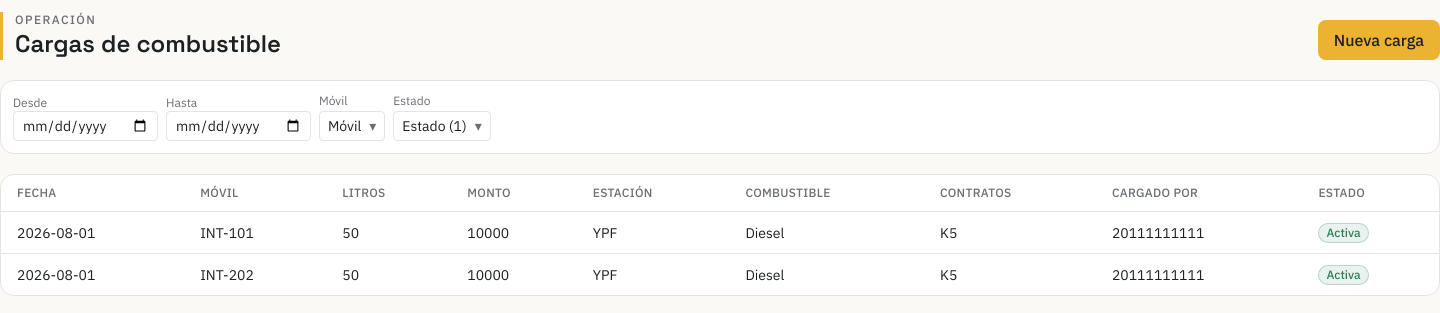
Test case: CombustiblePage › tildar un móvil hace aparecer "Limpiar filtros", que vuelve al estado inicial
Click the button labelled "Móvil ▾": (352,126) [319,111,385,141]
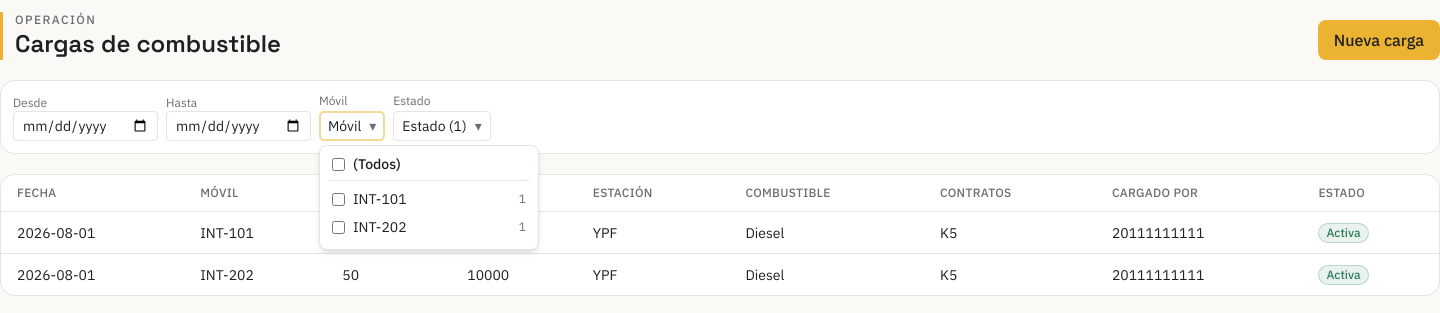
Click the checkbox labelled "INT-101": (338,199) [332,192,345,206]
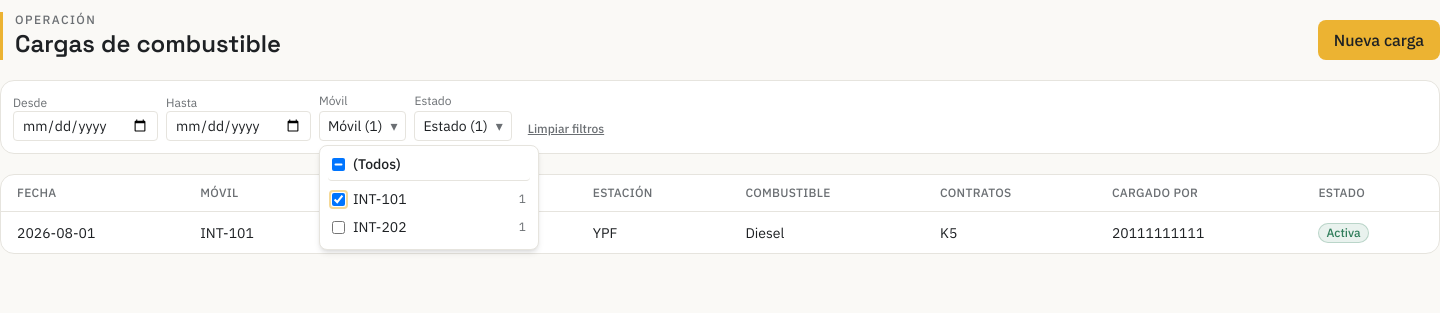
Press Escape
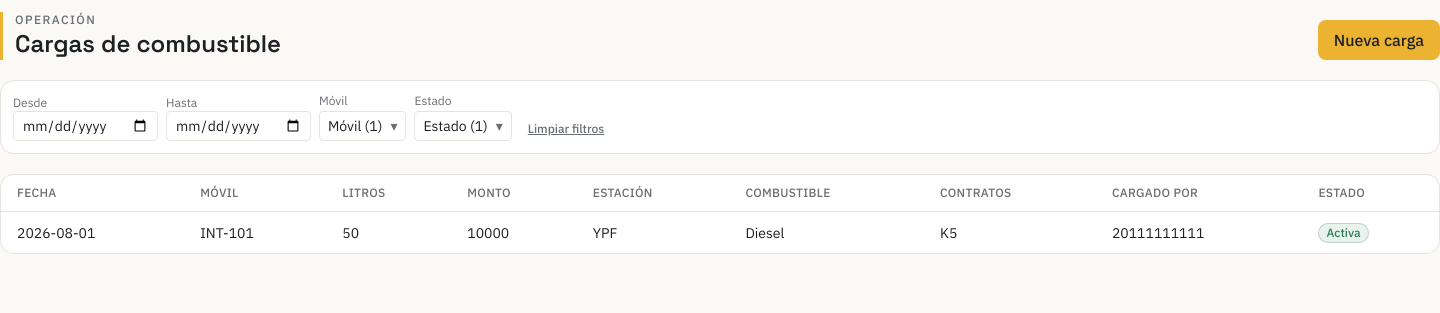
Click the button "Limpiar filtros": (566,129) [520,117,612,141]
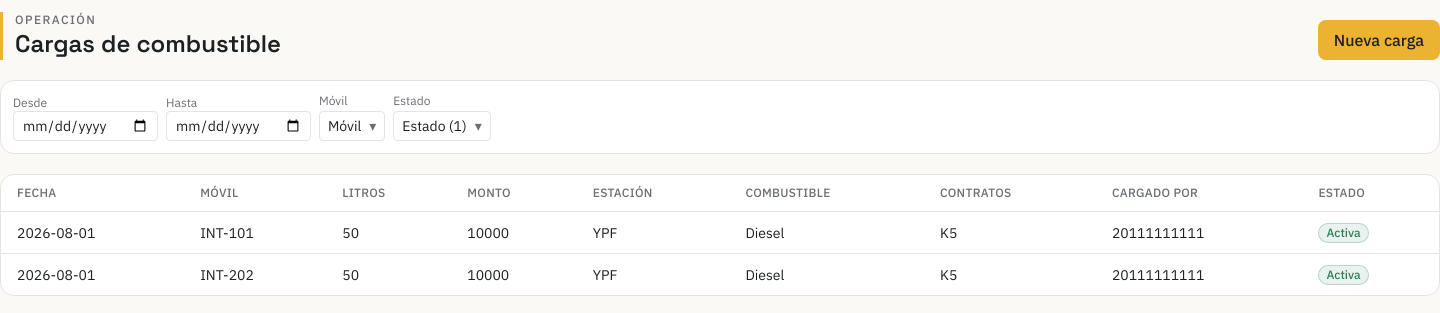
Check: the button "Limpiar filtros" is gone
